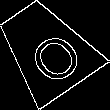O_NW: (12, 16, 81, 82)
